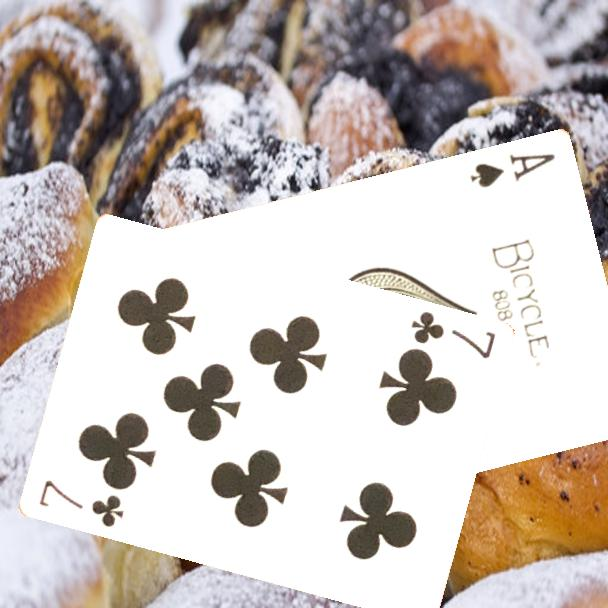c07: (35, 476, 126, 531), (406, 308, 498, 362)
s01: (467, 149, 558, 190)
